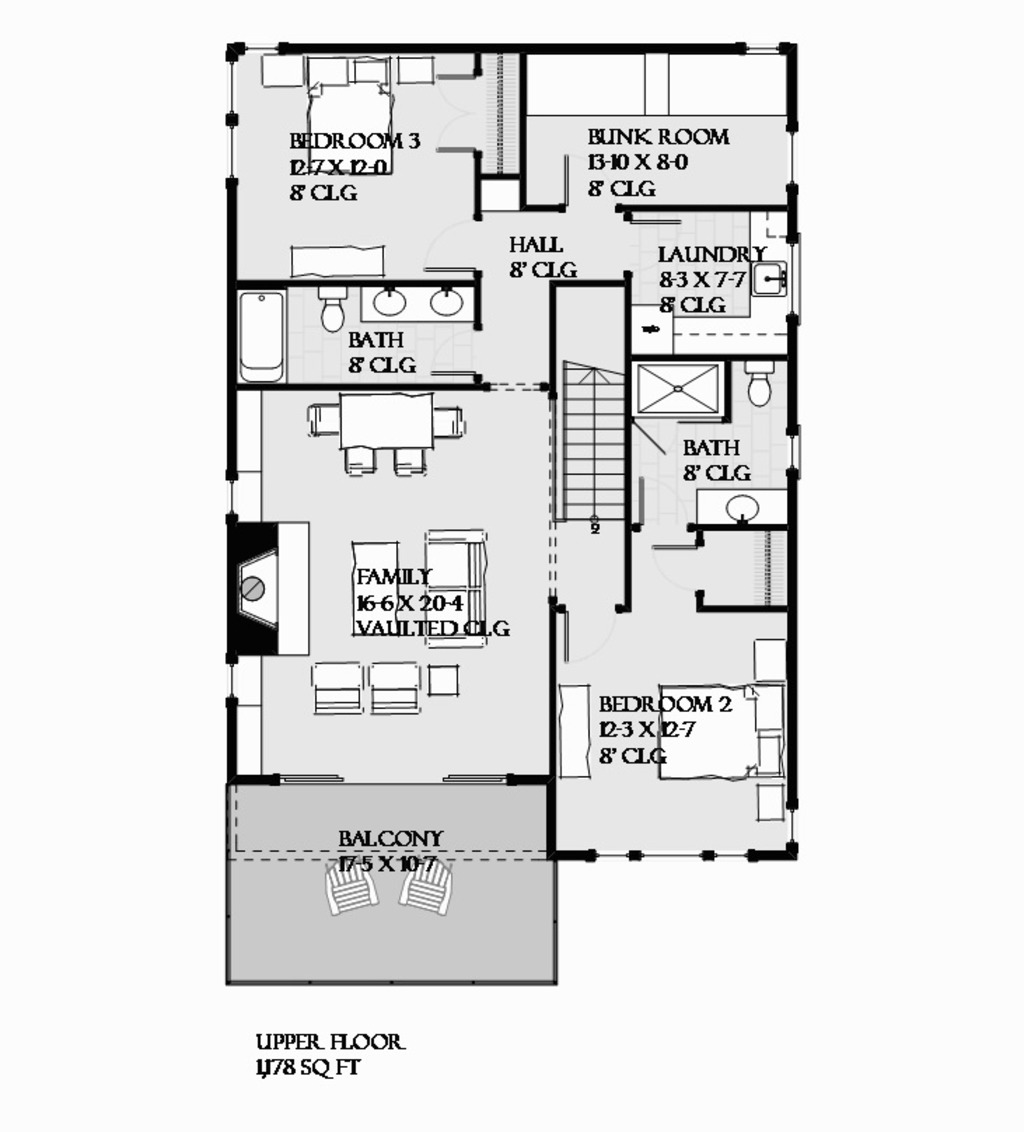dining_table: (306, 395, 469, 486)
large_sink: (739, 354, 777, 413), (311, 286, 352, 335)
small_sink: (356, 277, 474, 329), (697, 488, 794, 533)
small_sofa: (309, 658, 372, 724), (368, 658, 429, 718)
stairs: (554, 354, 632, 540)
tub: (233, 286, 291, 383)
